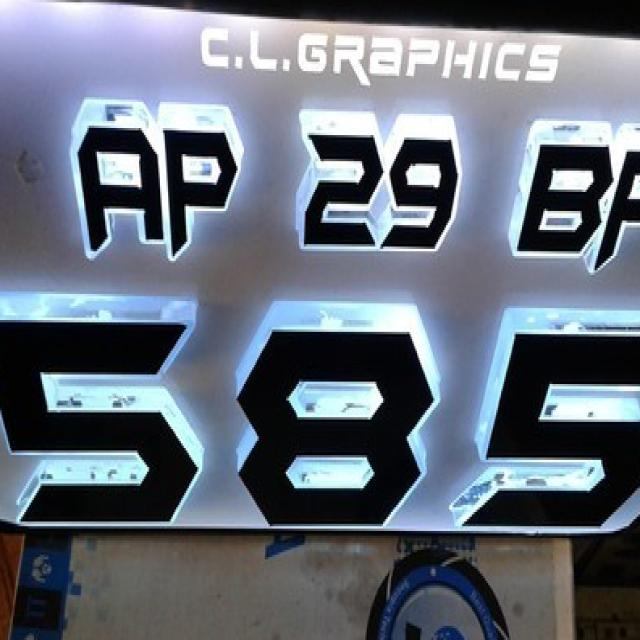license_plate: (0, 2, 640, 572)
